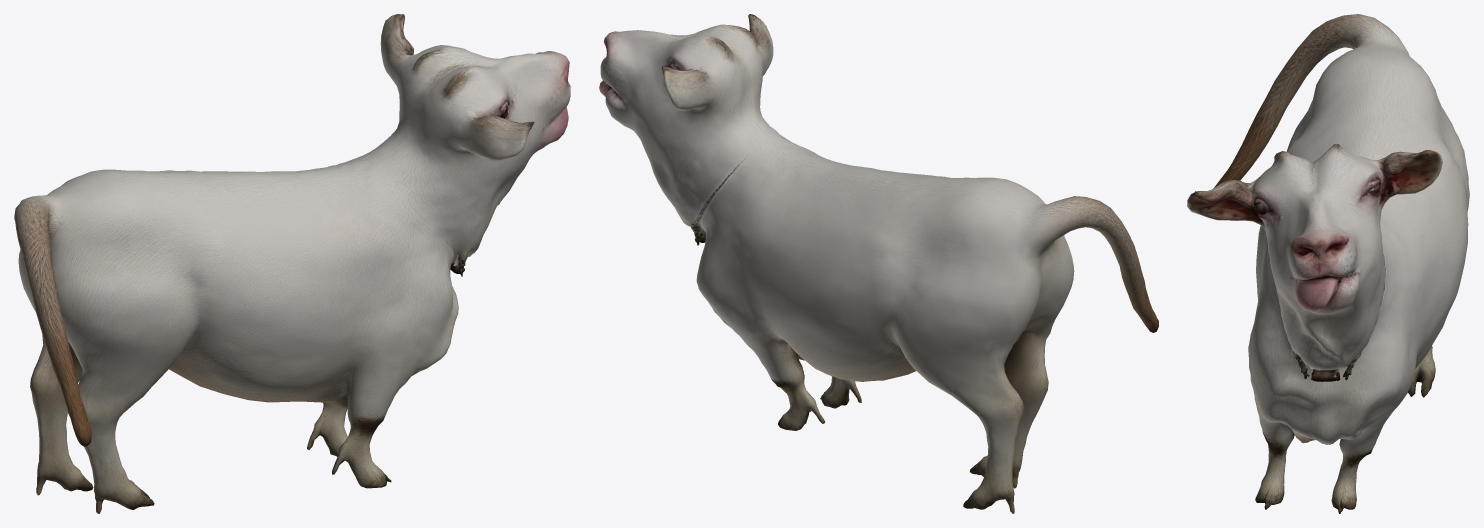
Rendered from speaking-goat.glb.
3 renders of one model, left to right at view 1: azimuth 30°, elevation 25°; view 2: azimuth 150°, elevation 25°; view 3: azimuth 270°, elevation 25°, orthographic. The views are drawn at different scales.
Parts seen in each view (by area): view 1: tripo_node_b4796d39-d52b-41c5-b6d8-5ada7029b5a2; view 2: tripo_node_b4796d39-d52b-41c5-b6d8-5ada7029b5a2; view 3: tripo_node_b4796d39-d52b-41c5-b6d8-5ada7029b5a2.
Part boxes in pixels (left/top/right/bottom): tripo_node_b4796d39-d52b-41c5-b6d8-5ada7029b5a2: left=14, top=14, right=570, bottom=513; tripo_node_b4796d39-d52b-41c5-b6d8-5ada7029b5a2: left=599, top=14, right=1158, bottom=513; tripo_node_b4796d39-d52b-41c5-b6d8-5ada7029b5a2: left=1187, top=14, right=1469, bottom=513.
Size of the model in its own units: 1.08 by 0.7363 by 0.4641.
1 material, 1 textured.
